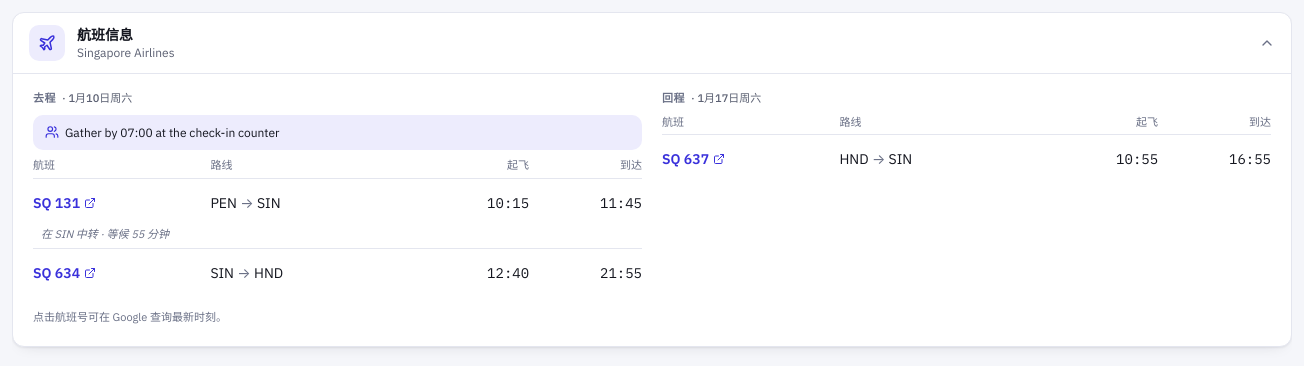
it: with flights entered › collapses on demand and keeps the heading
Click the button "航班信息 Singapore Airlines": [47, 43] box [13,13,1291,73]
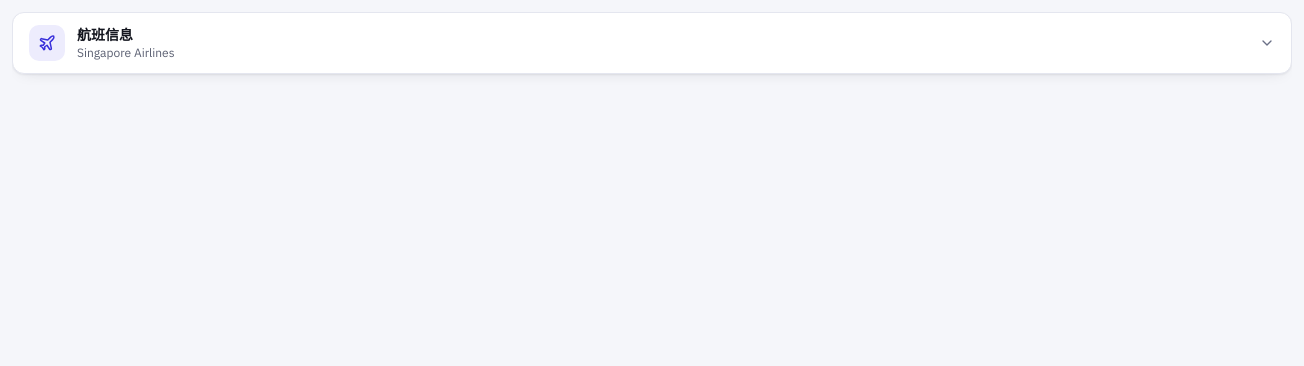
Expected: the text "航班信息" is shown, [77,26,133,44]
Expected: the button "航班信息 Singapore Airlines" is collapsed, [13,13,1291,73]
